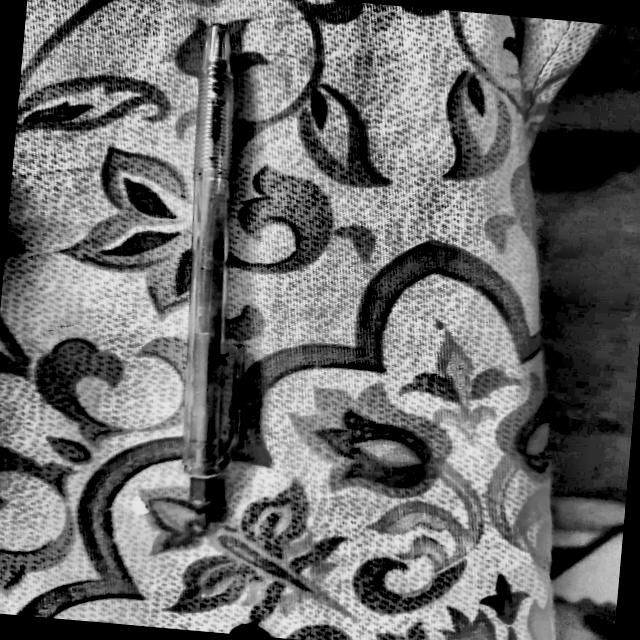Pen: (72, 0, 365, 551)
